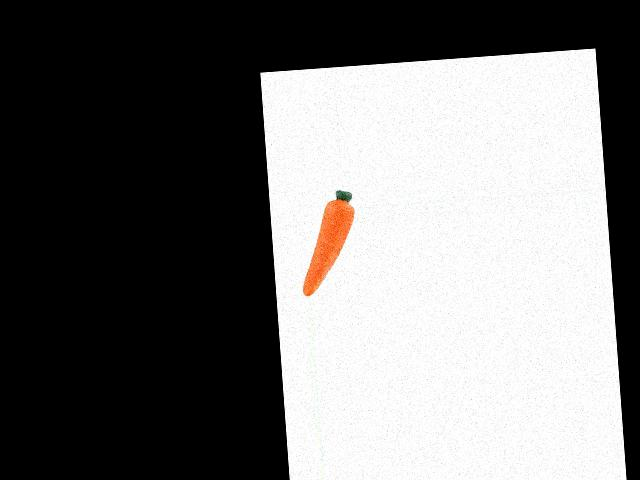carrot: (295, 198, 359, 296)
